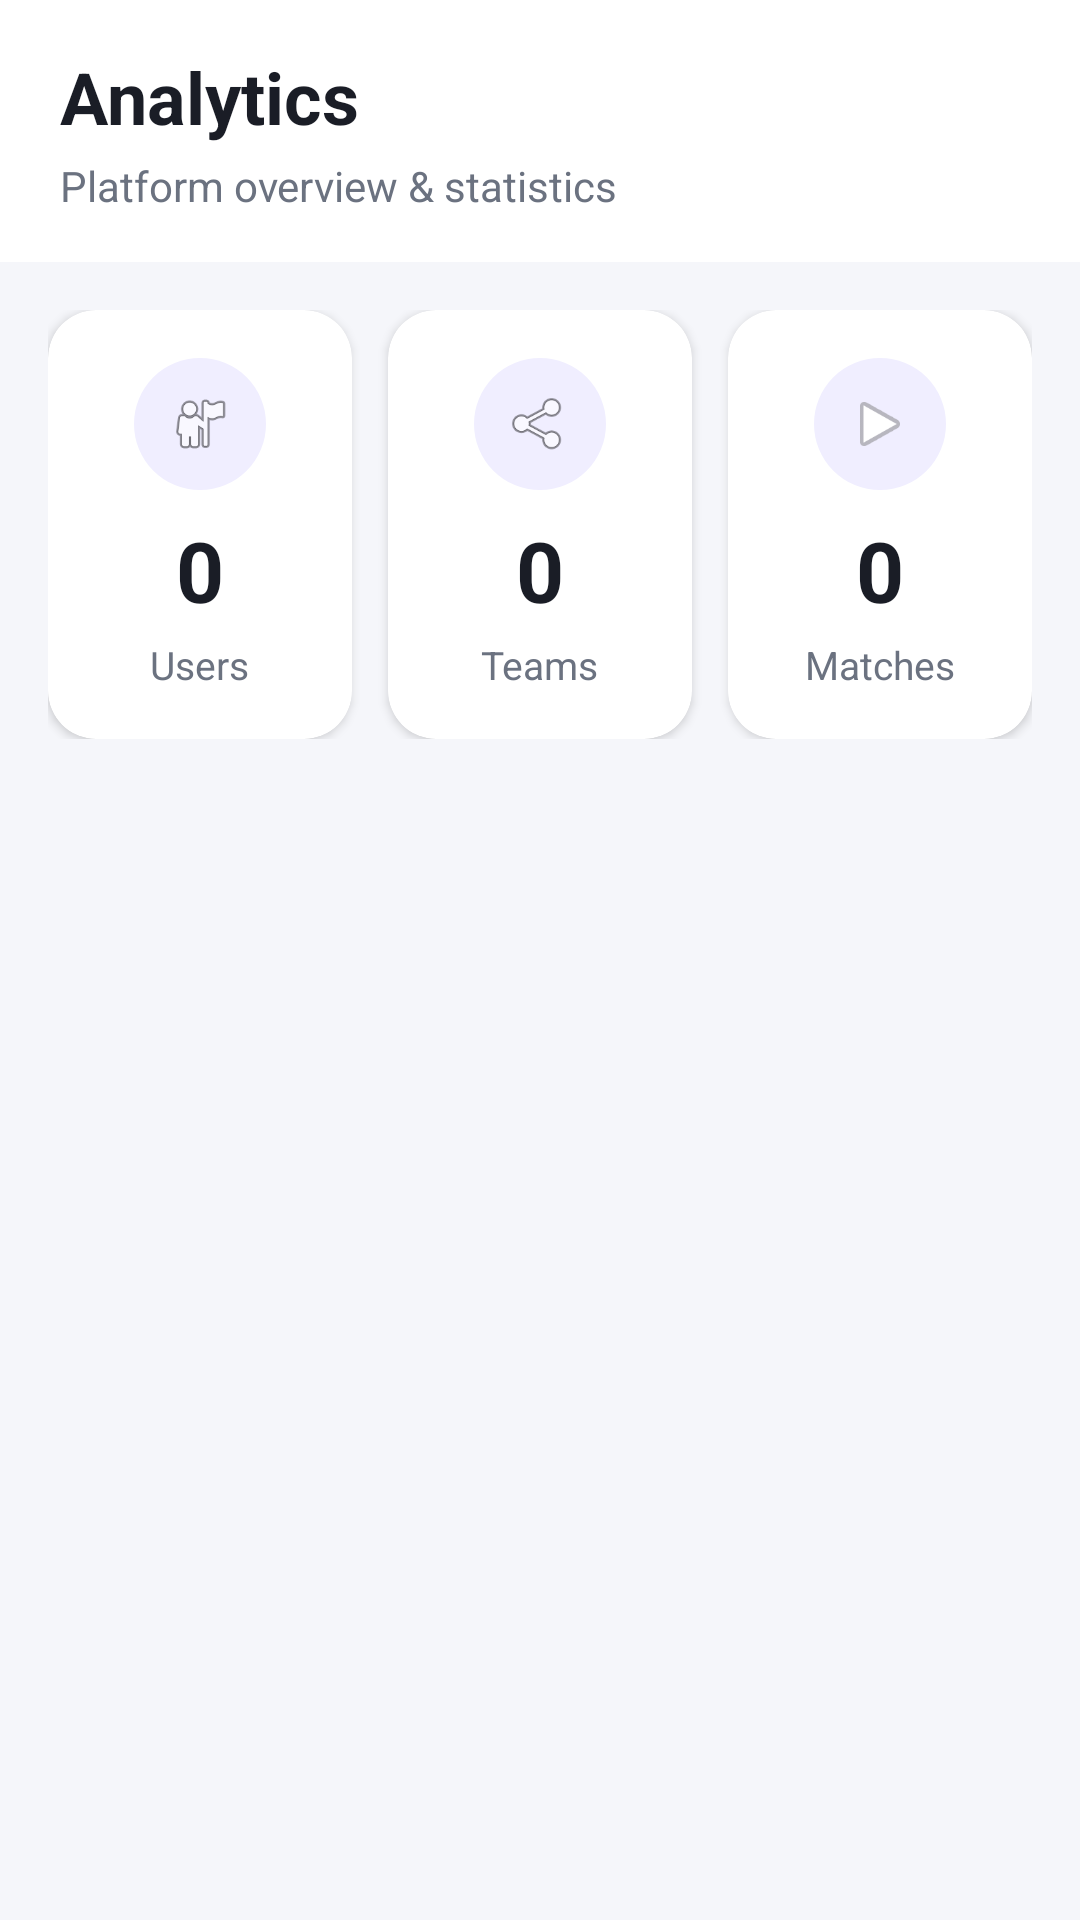

Where icons sit on this 1080*1920 app screen, as (x1, y1, x2, y2):
Users: (176, 399, 226, 449)
